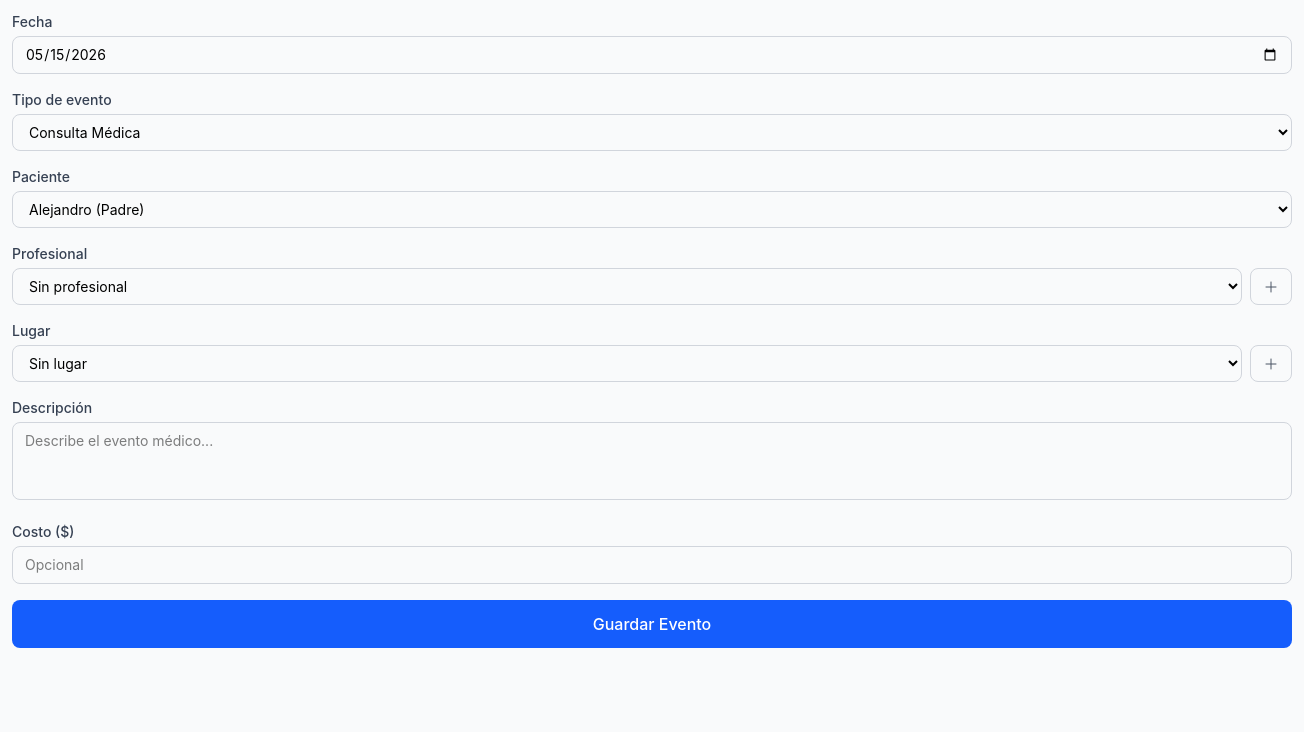
Scenario: EventForm › should show validation errors with empty description
Submit with empty description
Click the button "Guardar Evento": (652, 624) [12,600,1292,648]
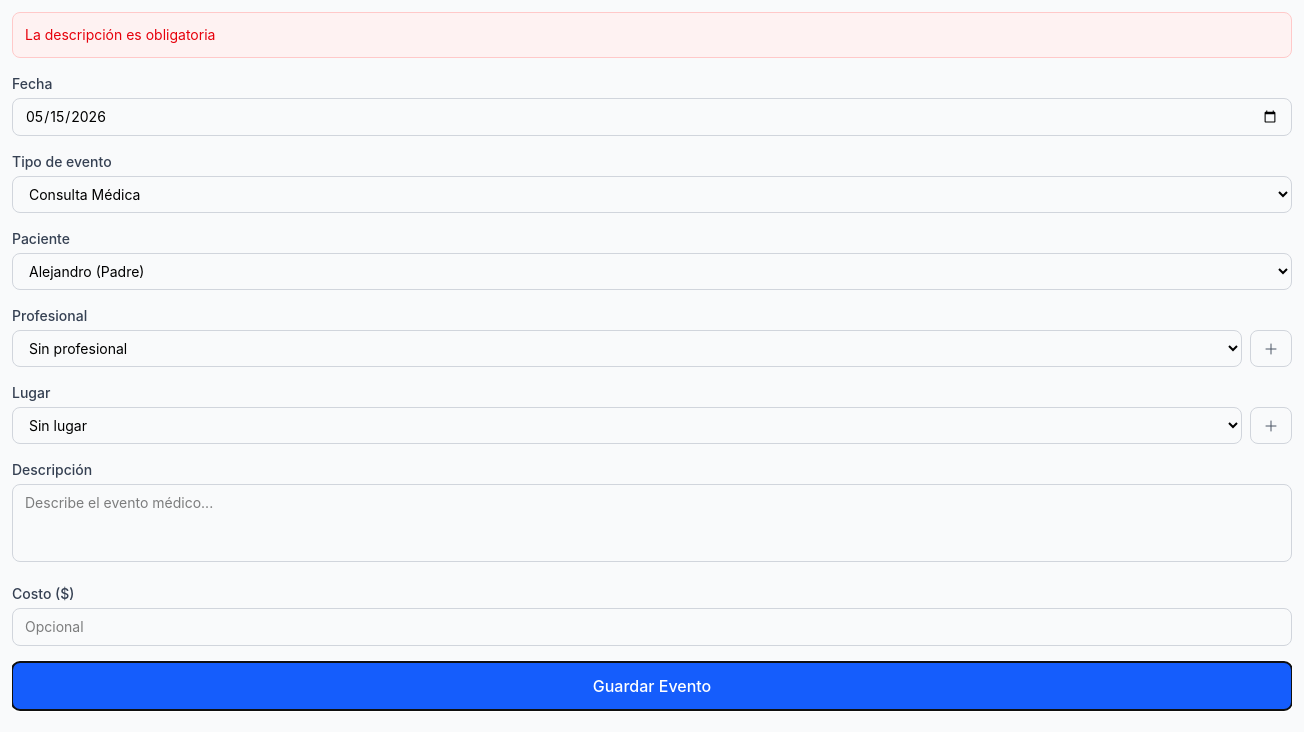
Result: the text "La descripción es obligatoria" is shown at [25,26,215,43]
